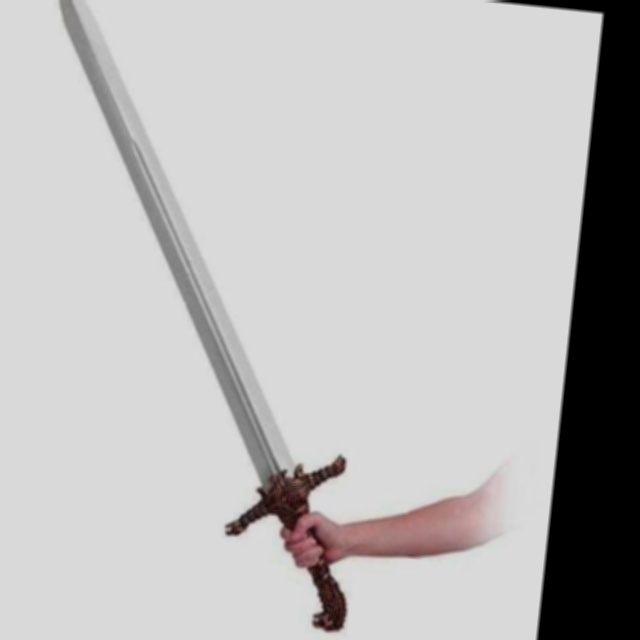Sharp-Object: (0, 0, 436, 640)
